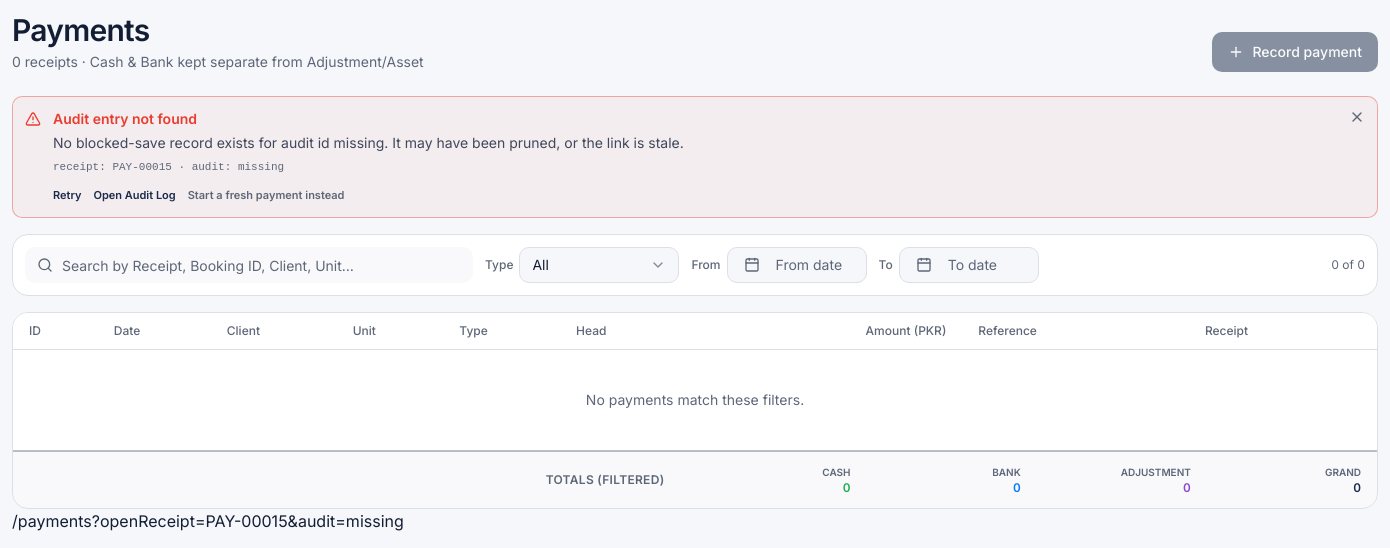
Test case: Payments replay-error banner › dismiss (X) button clears the banner and strips URL params
Expected: the message is shown, x1=12 y1=96 x2=1378 y2=218
Expected: the text with test id "location" shows "openReceipt=PAY-00015", x1=92 y1=511 x2=404 y2=531
Click the button named "dismiss": [1357, 117] box x1=1349 y1=109 x2=1365 y2=125
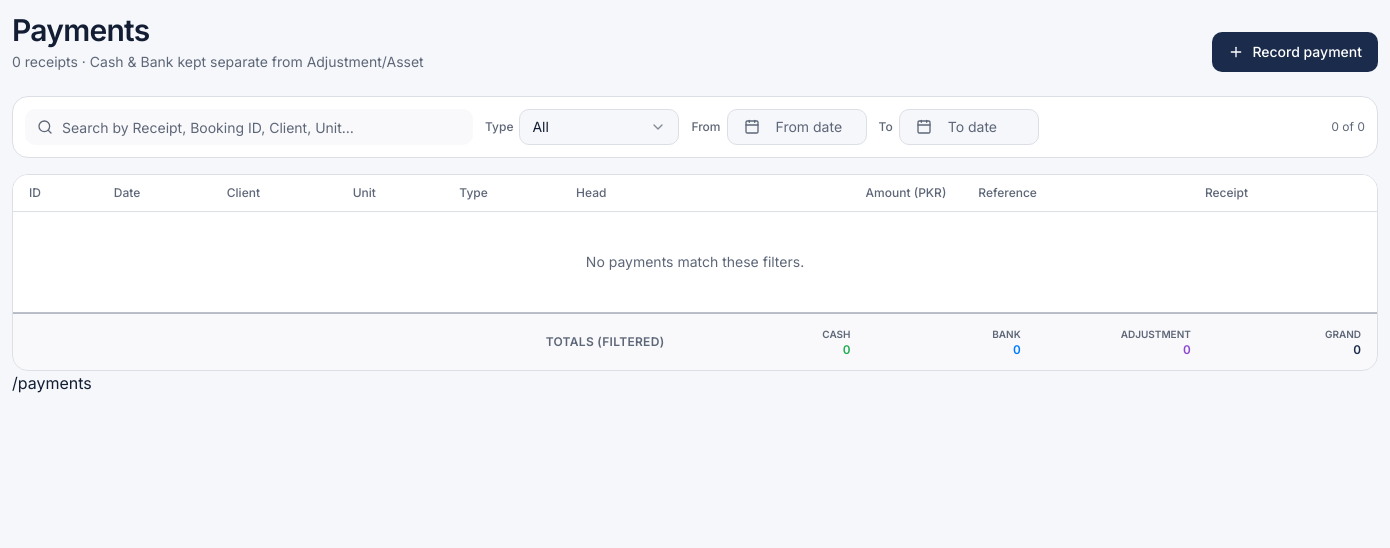
Now the message is gone
Now the text with test id "location" no longer shows "openReceipt"
Now the text with test id "location" no longer shows "audit="
